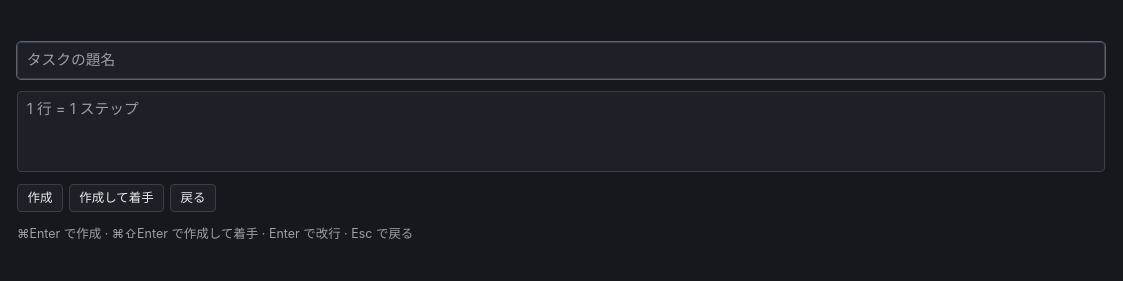
Scenario: コアが読めなくても作成の面には入れ、失敗の理由がそこに出る
Step 1. Type "原稿" into the field with class "title" → (561, 60), box x1=17 y1=42 x2=1105 y2=79
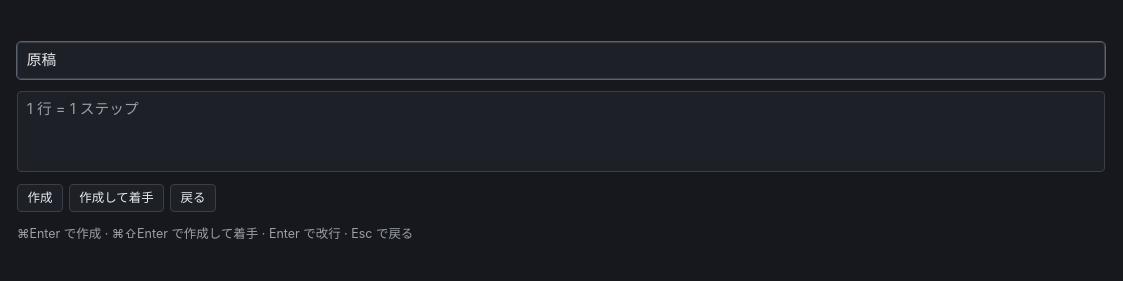
Step 2. Type "構成を決める" into the text box with class "steps" → (561, 131), box x1=17 y1=91 x2=1105 y2=172
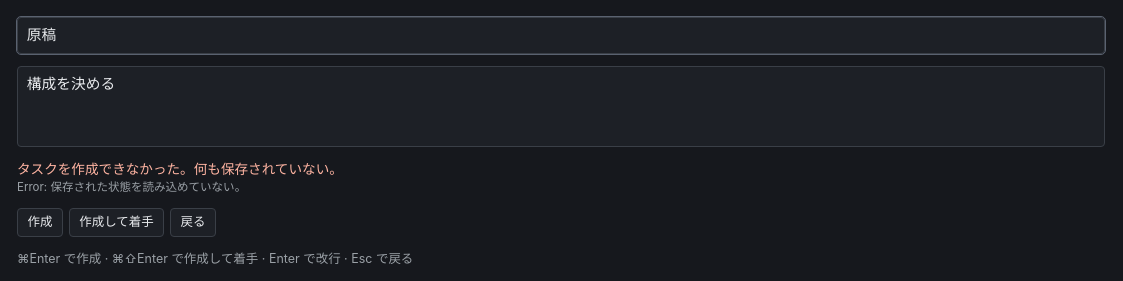
Now the message "タスクを作成できなかった。何も保存されていない。 Error: 保存された状態を読み込めていない。" is shown, box x1=17 y1=161 x2=343 y2=194
